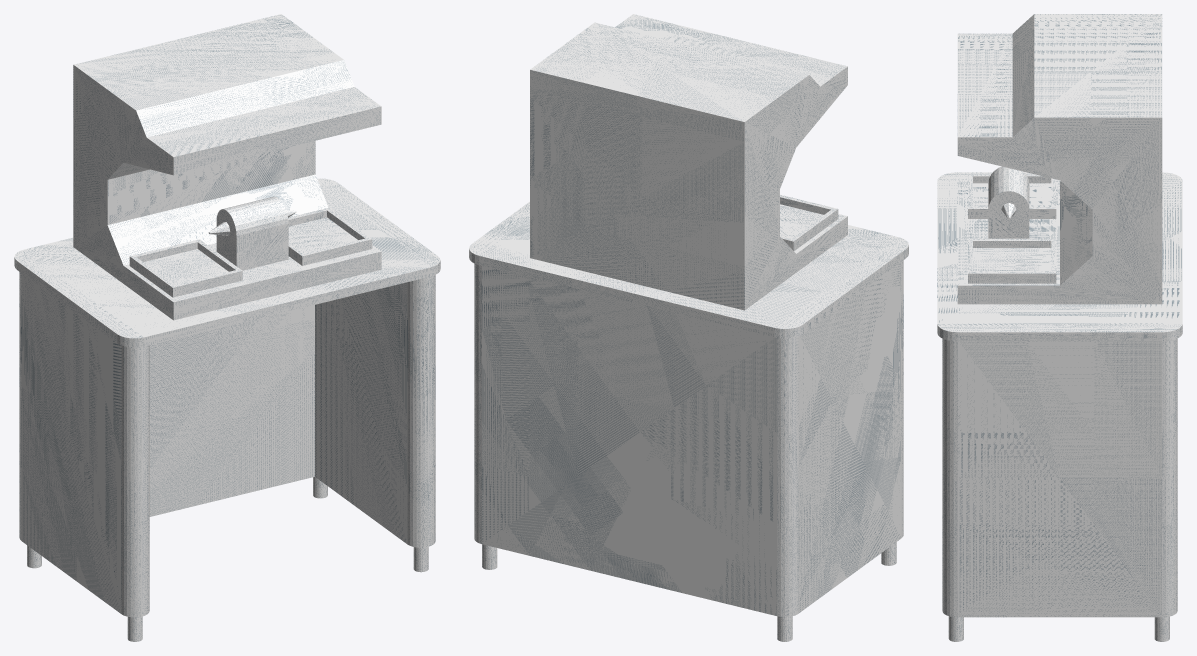
3 renders of one model, left to right at view 1: azimuth 30°, elevation 25°; view 2: azimuth 150°, elevation 25°; view 3: azimuth 270°, elevation 25°, orthographic. The views are drawn at different scales.
Visible parts, largest first — view 1: D0980_-_Workstation__Dental_Lab__Polishing__Single_ (×3), FamilyGeomCombination_3033, FamilyGeomCombination_3035 (×2), FamilyGeomCombination_3034 (×2); view 2: D0980_-_Workstation__Dental_Lab__Polishing__Single_ (×2), FamilyGeomCombination_3033, FamilyGeomCombination_3035 (×2); view 3: D0980_-_Workstation__Dental_Lab__Polishing__Single_ (×5), FamilyGeomCombination_3033, FamilyGeomCombination_3034 (×2), FamilyGeomCombination_3035 (×2).
Part boxes in pixels (bbox=[...]): D0980_-_Workstation__Dental_Lab__Polishing__Single_ (×3): bbox=[14, 178, 440, 617]; FamilyGeomCombination_3033: bbox=[73, 14, 381, 320]; FamilyGeomCombination_3035 (×2): bbox=[129, 239, 242, 297]; FamilyGeomCombination_3034 (×2): bbox=[288, 207, 372, 265]; D0980_-_Workstation__Dental_Lab__Polishing__Single_ (×2): bbox=[469, 201, 908, 616]; FamilyGeomCombination_3033: bbox=[530, 14, 847, 310]; FamilyGeomCombination_3035 (×2): bbox=[780, 194, 838, 250]; D0980_-_Workstation__Dental_Lab__Polishing__Single_ (×5): bbox=[937, 166, 1182, 641]; FamilyGeomCombination_3033: bbox=[957, 14, 1162, 304]; FamilyGeomCombination_3034 (×2): bbox=[968, 238, 1056, 283]; FamilyGeomCombination_3035 (×2): bbox=[968, 174, 1056, 218].
Size of the model in its own units: 37 by 24 by 54.12.
